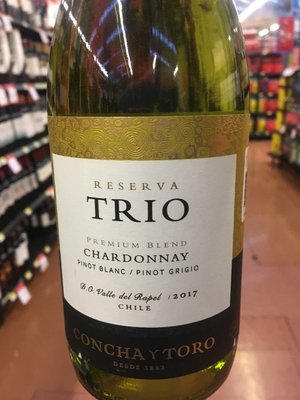trio chardonnay: (46, 27, 252, 400)
